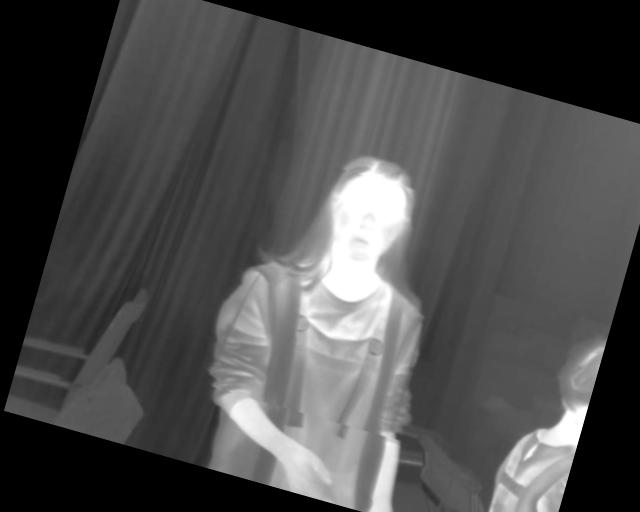face: (315, 148, 425, 272)
